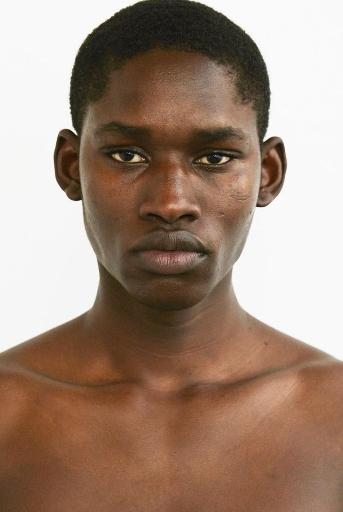left_eye: (193, 151, 241, 172)
left_lip_corner: (201, 245, 214, 263)
right_eye: (105, 149, 150, 169)
right_lip_corner: (129, 245, 145, 261)
